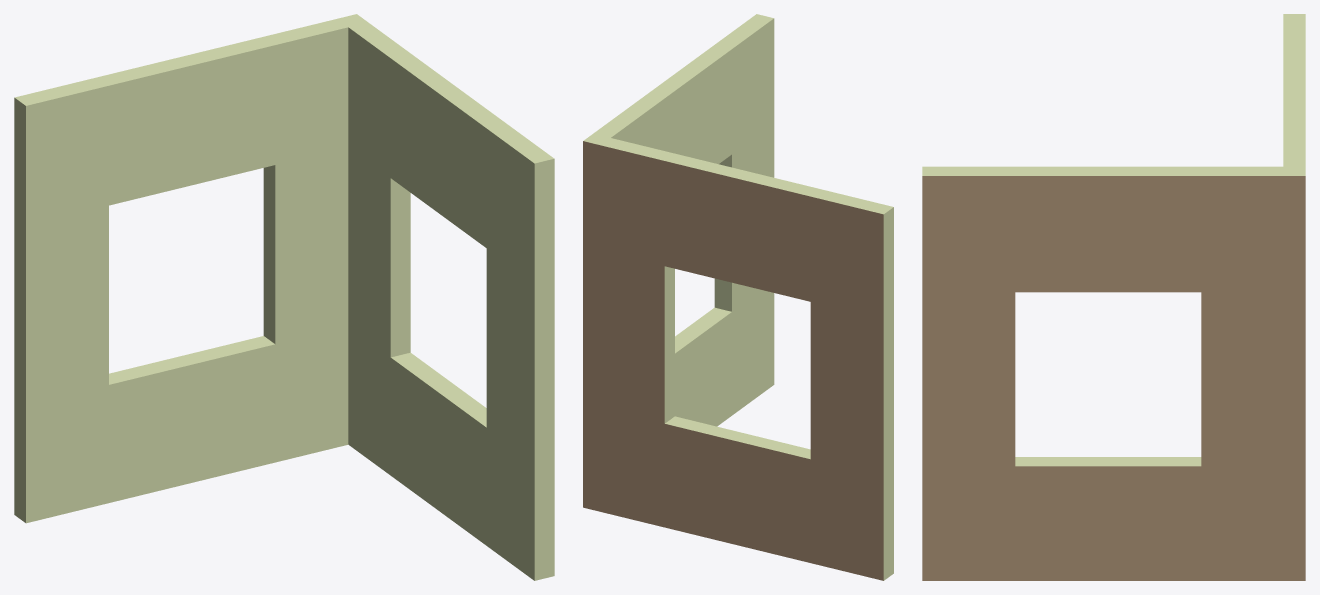
File: Wall2_C5_12.fbx
3 views of the same model, side by side, from view 1: azimuth 30°, elevation 25°; view 2: azimuth 150°, elevation 25°; view 3: azimuth 270°, elevation 25° (orthographic). The views are drawn at different scales.
Parts seen in each view (by area): view 1: Wall2_C5_12; view 2: Wall2_C5_12; view 3: Wall2_C5_12.
Boxes of the visible parts, x1=… form: Wall2_C5_12: x1=14, y1=14, x2=554, y2=580; Wall2_C5_12: x1=583, y1=14, x2=893, y2=580; Wall2_C5_12: x1=922, y1=14, x2=1305, y2=580.
Size of the model in its own units: 258 by 300 by 258.
